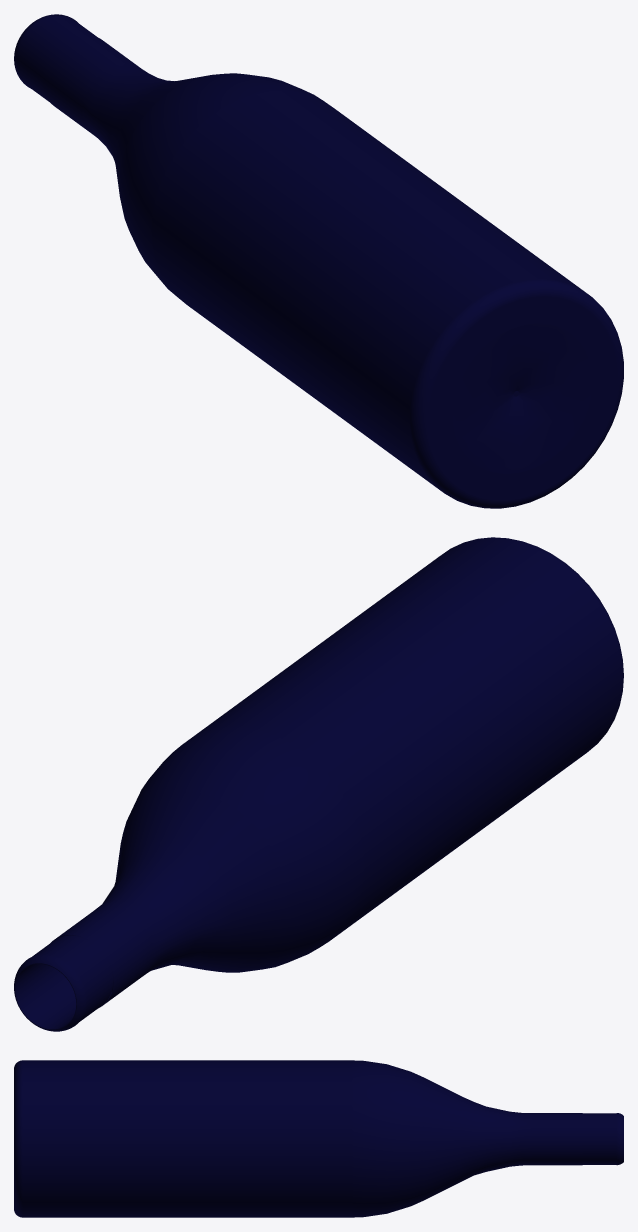
The model's file is bottle.FBX.
3 renders of one model, top to bottom at view 1: azimuth 30°, elevation 25°; view 2: azimuth 150°, elevation 25°; view 3: azimuth 270°, elevation 25°, orthographic. The views are drawn at different scales.
Visible parts, largest first — view 1: bottle; view 2: bottle; view 3: bottle.
Part boxes in pixels (box(x1,y1,x2,y2)): bottle: box(14, 14, 623, 508); bottle: box(14, 537, 623, 1031); bottle: box(14, 1060, 623, 1217).
Size of the model in its own units: 0.8989 by 0.8995 by 3.49.
